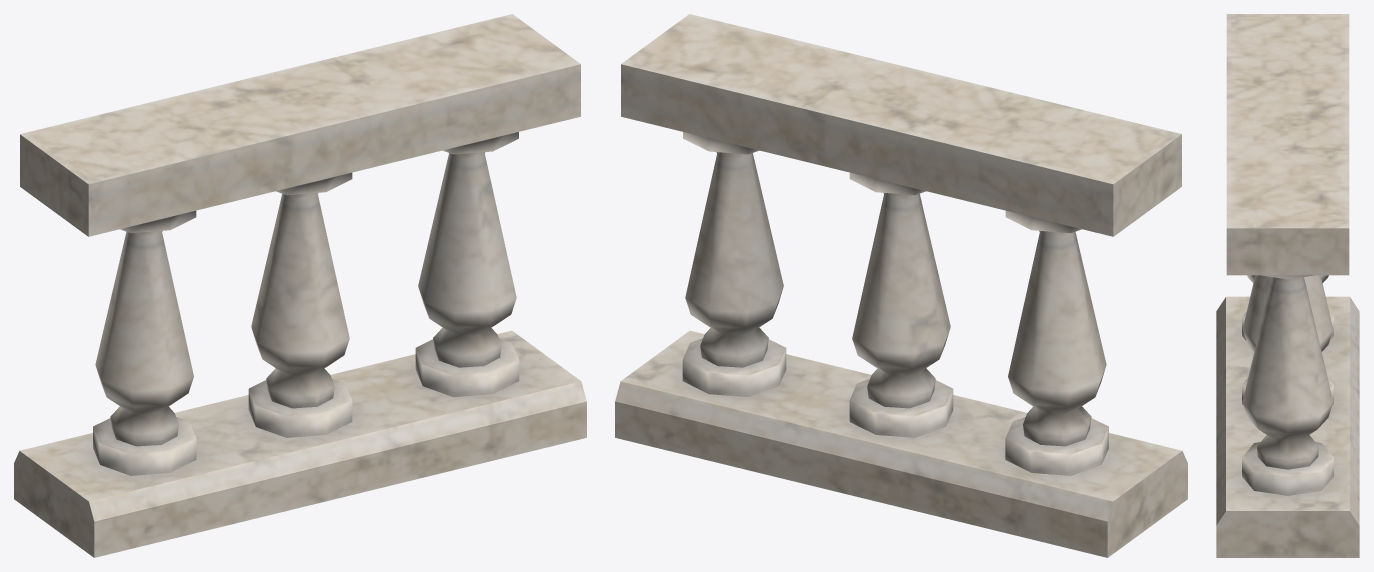
The model's file is EP1_StoneHandRail.fbx.
3 views of the same model, side by side, from view 1: azimuth 30°, elevation 25°; view 2: azimuth 150°, elevation 25°; view 3: azimuth 270°, elevation 25° (orthographic). The views are drawn at different scales.
Visible parts, largest first — view 1: EP1_StoneHandRail; view 2: EP1_StoneHandRail; view 3: EP1_StoneHandRail.
Part boxes in pixels (bbox=[...]): EP1_StoneHandRail: bbox=[14, 14, 586, 557]; EP1_StoneHandRail: bbox=[615, 14, 1187, 557]; EP1_StoneHandRail: bbox=[1216, 14, 1359, 557].
Bounding box in the file's own units: 1 × 0.7165 × 0.2819.
Materials: 1 (1 with a texture image).
